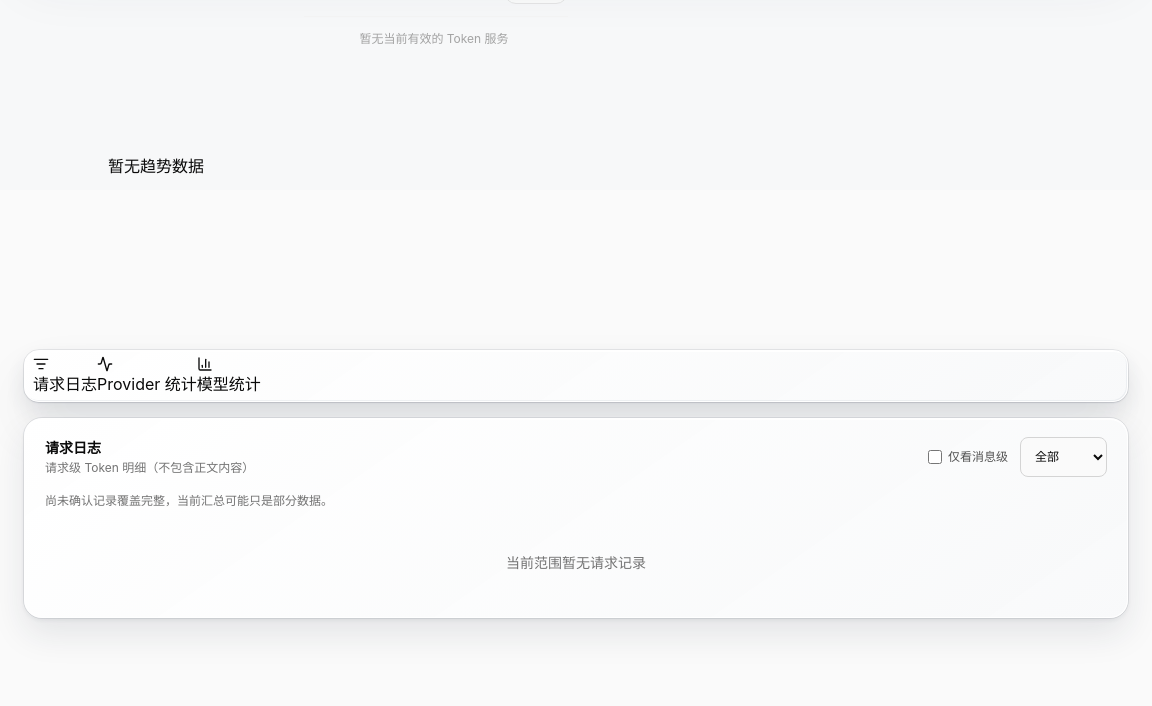
Test: SpendUsagePage (v2.0 IA split) › provider tab renders ProviderUsageTable with hook data
The width and height of the screenshot is (1152, 706).
(page scrolled)
Click the tab "Provider 统计": click(147, 376) [97, 356, 197, 396]
(page scrolled)
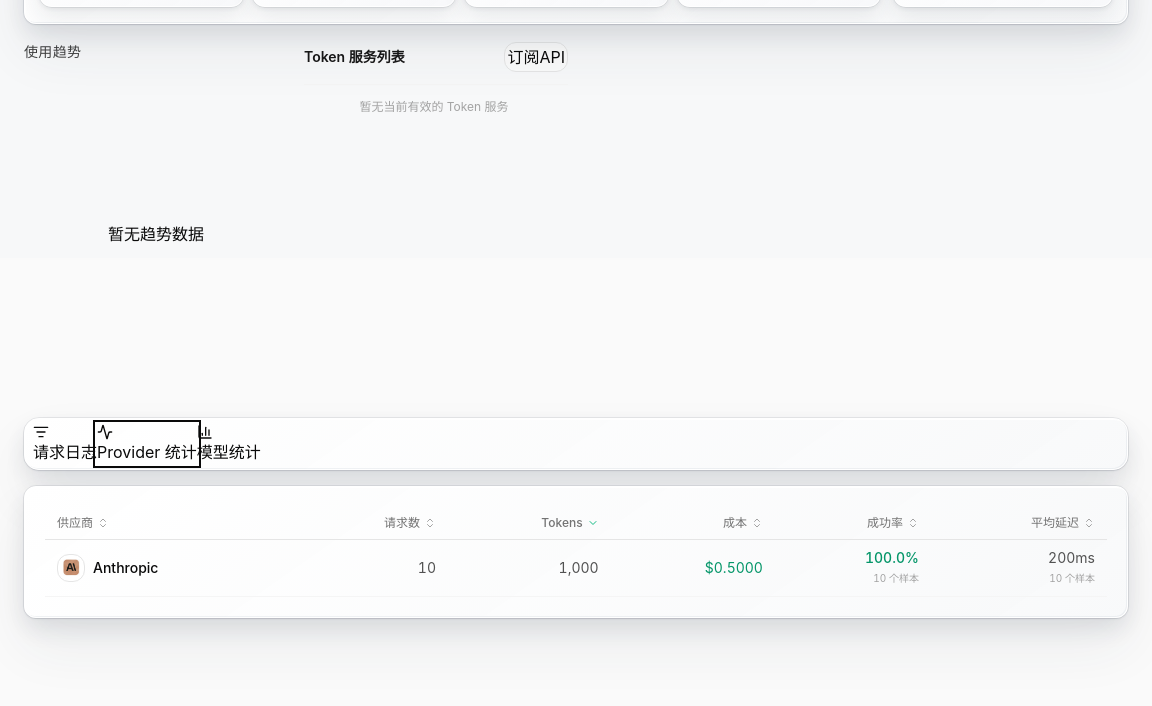
Expected: the text "Anthropic" is shown, [93, 558, 158, 578]
